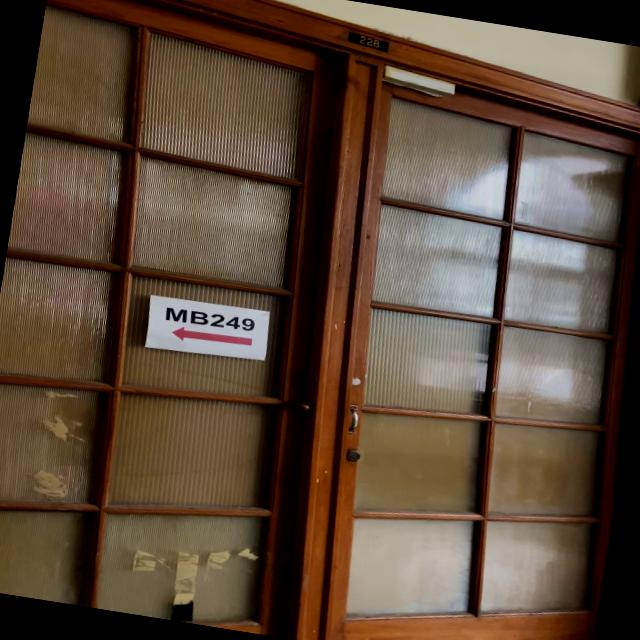room228: (344, 28, 392, 54)
